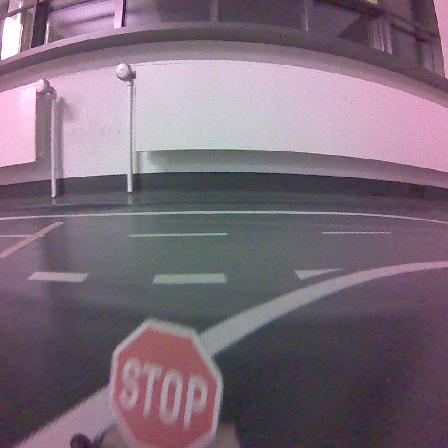STOP: (111, 320, 222, 447)
